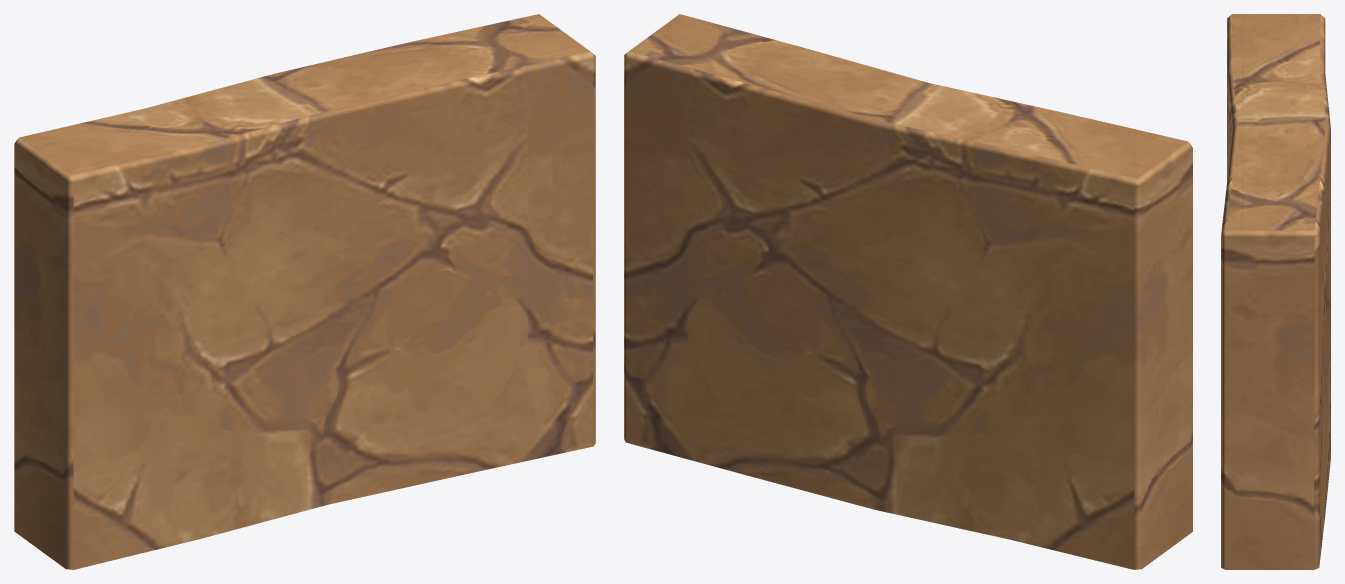
File: templebrick3.fbx
3 renders of one model, left to right at view 1: azimuth 30°, elevation 25°; view 2: azimuth 150°, elevation 25°; view 3: azimuth 270°, elevation 25°, orthographic. The views are drawn at different scales.
Parts seen in each view (by area): view 1: Colonne.004; view 2: Colonne.004; view 3: Colonne.004.
Part boxes in pixels (bbox=[...]): Colonne.004: bbox=[14, 14, 595, 569]; Colonne.004: bbox=[624, 14, 1192, 569]; Colonne.004: bbox=[1221, 14, 1330, 569].
Size of the model in its own units: 1063 by 758 by 224.
